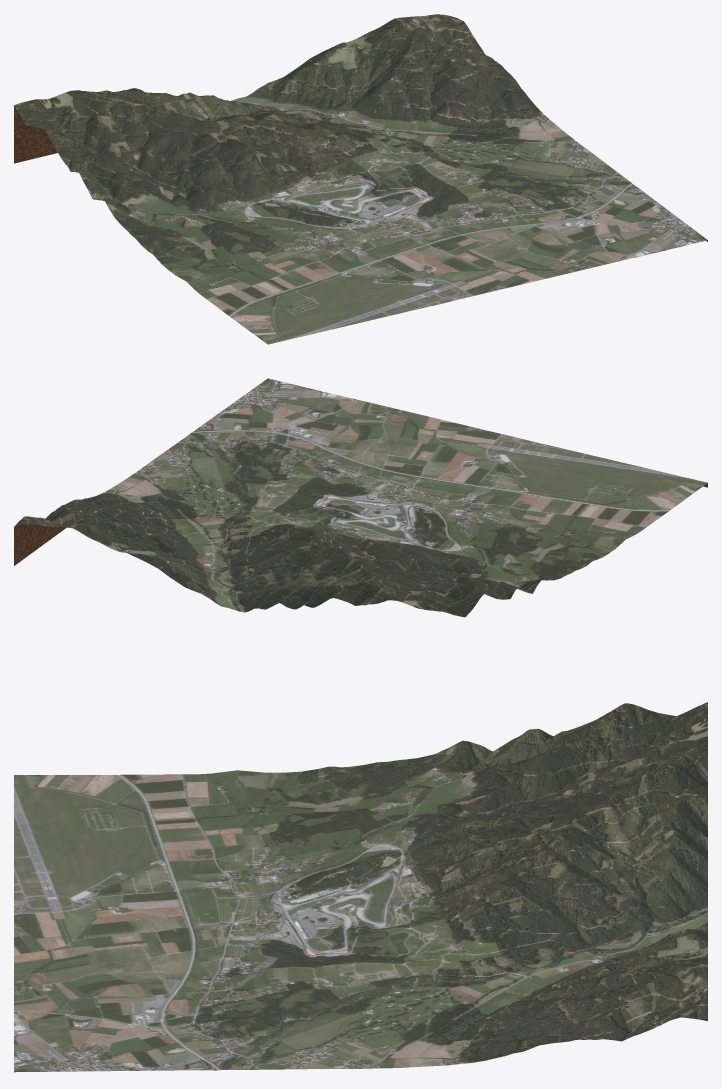
The model's file is 11_austrian_gp.glb.
3 renders of one model, top to bottom at view 1: azimuth 30°, elevation 25°; view 2: azimuth 150°, elevation 25°; view 3: azimuth 270°, elevation 25°, orthographic. The views are drawn at different scales.
Parts seen in each view (by area): view 1: tinMesh, side_north_tin; view 2: tinMesh, side_east_tin; view 3: tinMesh.
Part boxes in pixels (x1,y1,x2,y2): tinMesh: [14, 14, 707, 344]; side_north_tin: [14, 106, 57, 163]; tinMesh: [14, 378, 707, 617]; side_east_tin: [14, 524, 66, 565]; tinMesh: [14, 702, 707, 1072].
Bounding box in the file's own units: 7372 × 948 × 7371.
2 materials, 2 textured.
